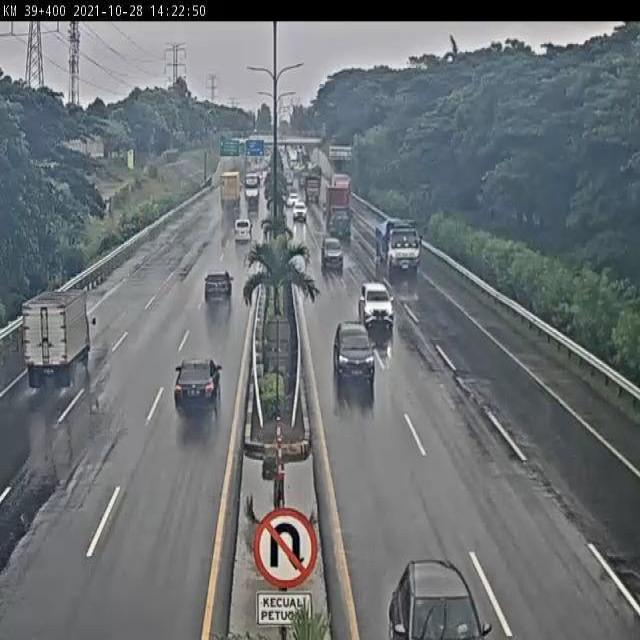car: (332, 321, 378, 391), (172, 356, 224, 412), (232, 216, 254, 241)
truck-l-: (374, 218, 422, 278)
truck-m-: (21, 289, 98, 388)
truck-xl-: (328, 187, 357, 241)
